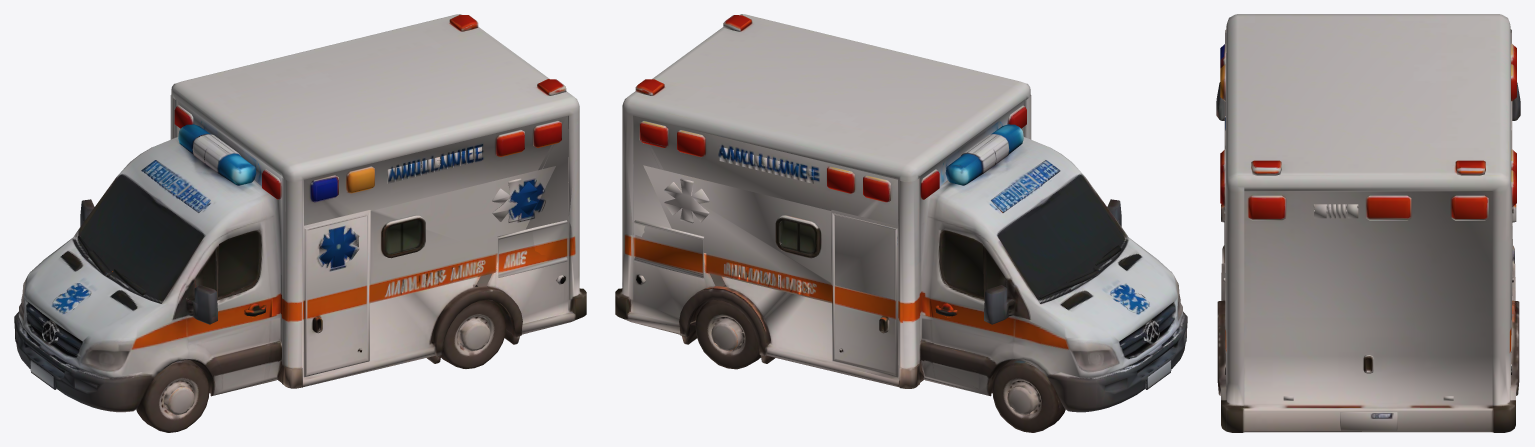
The model's file is an_ambulance_a30047b3_v1.glb.
The picture shows the model from 3 angles, left to right: view 1: azimuth 30°, elevation 25°; view 2: azimuth 150°, elevation 25°; view 3: azimuth 270°, elevation 25°; orthographic projection. The views are drawn at different scales.
Visible parts, largest first — view 1: material; view 2: material; view 3: material.
Part boxes in pixels (box(x1,y1,x2,y2)): material: box(14, 14, 586, 432); material: box(615, 14, 1187, 432); material: box(1216, 14, 1520, 432).
Size of the model in its own units: 1.9 by 0.9367 by 0.8845.
Materials: 1 (1 with a texture image).
